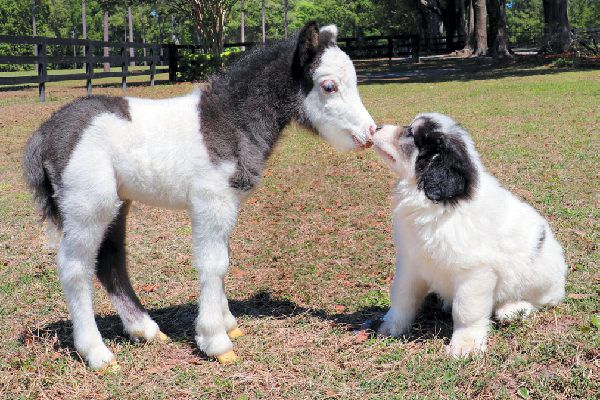Dog: (371, 101, 568, 347)
Horse: (15, 20, 371, 373)
